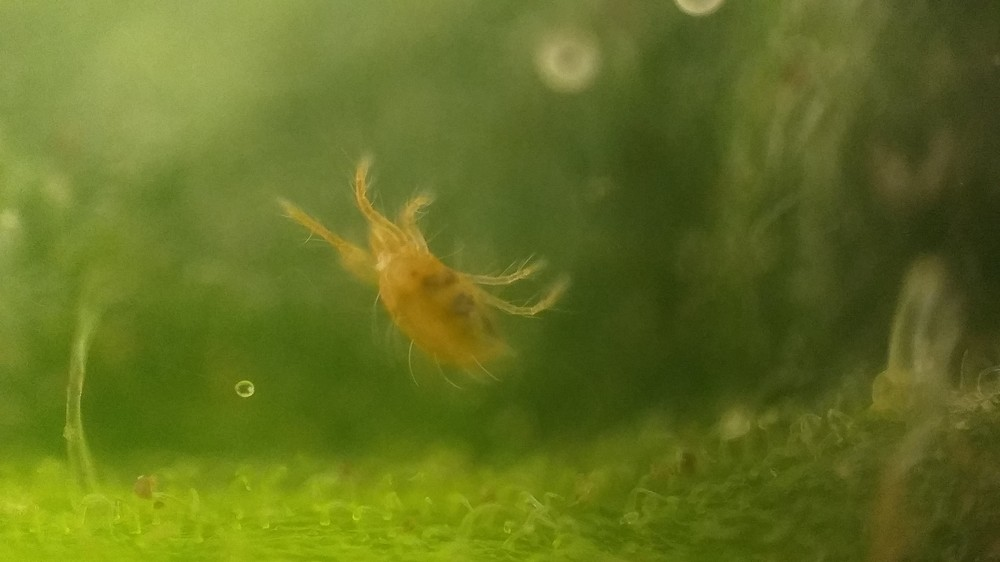Aracnido Rojo: (268, 145, 601, 409)
